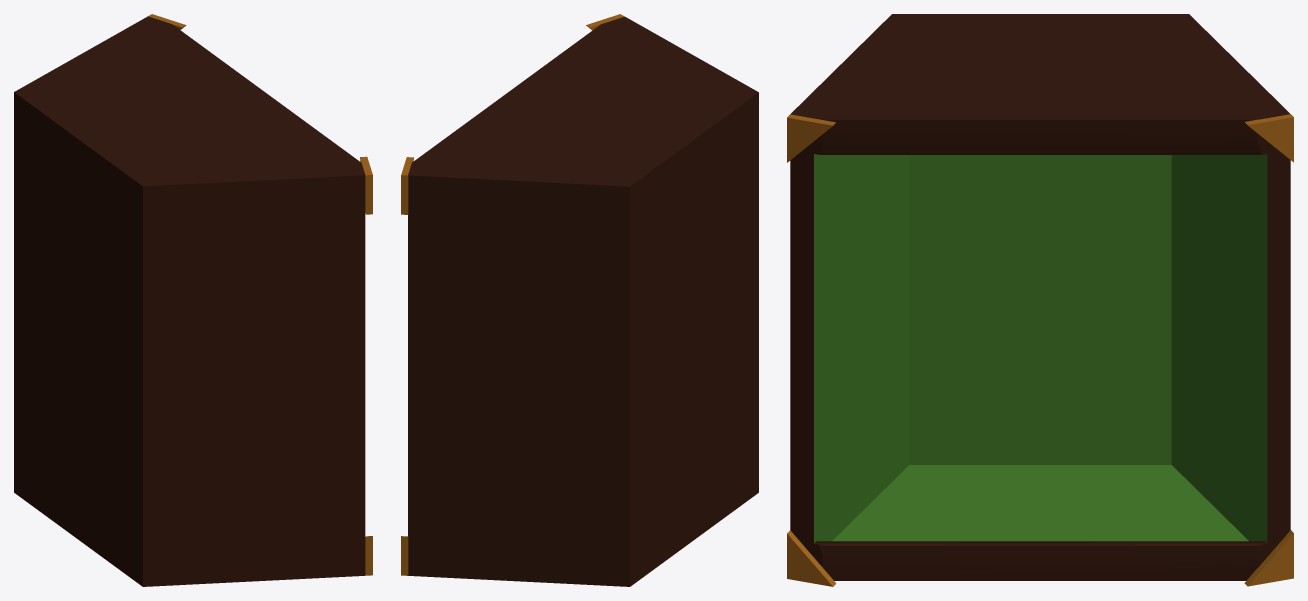
The model's file is Cell_Green.glb.
3 views of the same model, side by side, from view 1: azimuth 30°, elevation 25°; view 2: azimuth 150°, elevation 25°; view 3: azimuth 270°, elevation 25° (orthographic). The views are drawn at different scales.
Parts seen in each view (by area): view 1: Cells; view 2: Cells; view 3: Cells.
Boxes of the visible parts, box(x1,y1,x2,y2) form: Cells: box(14, 14, 372, 586); Cells: box(401, 14, 758, 586); Cells: box(787, 14, 1293, 586).
Bounding box in the file's own units: 1.04 × 2 × 1.99.
